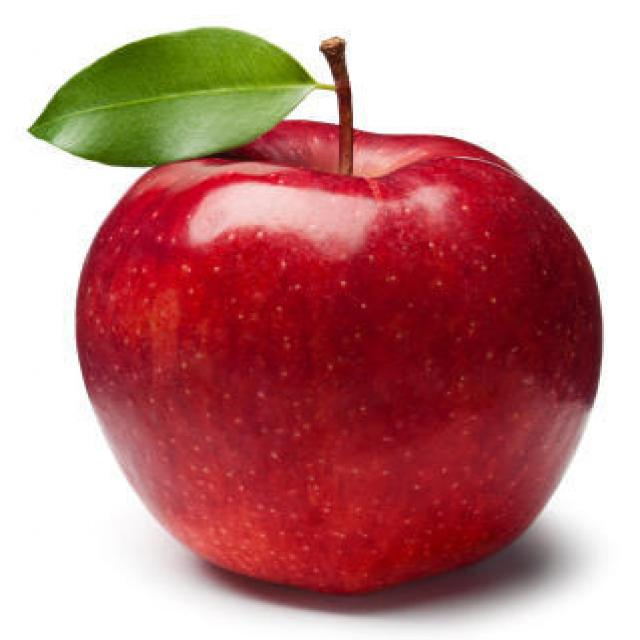Apple: (72, 111, 606, 593)
